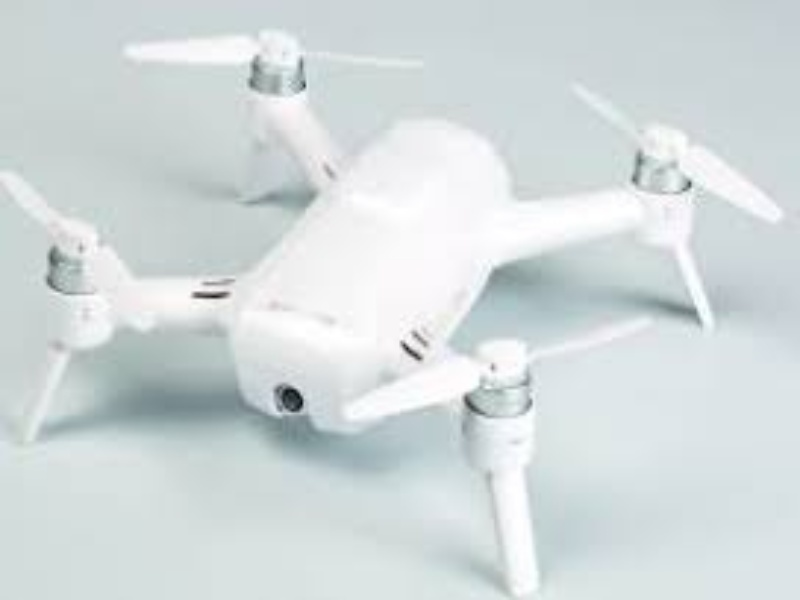drone: (14, 29, 777, 594)
